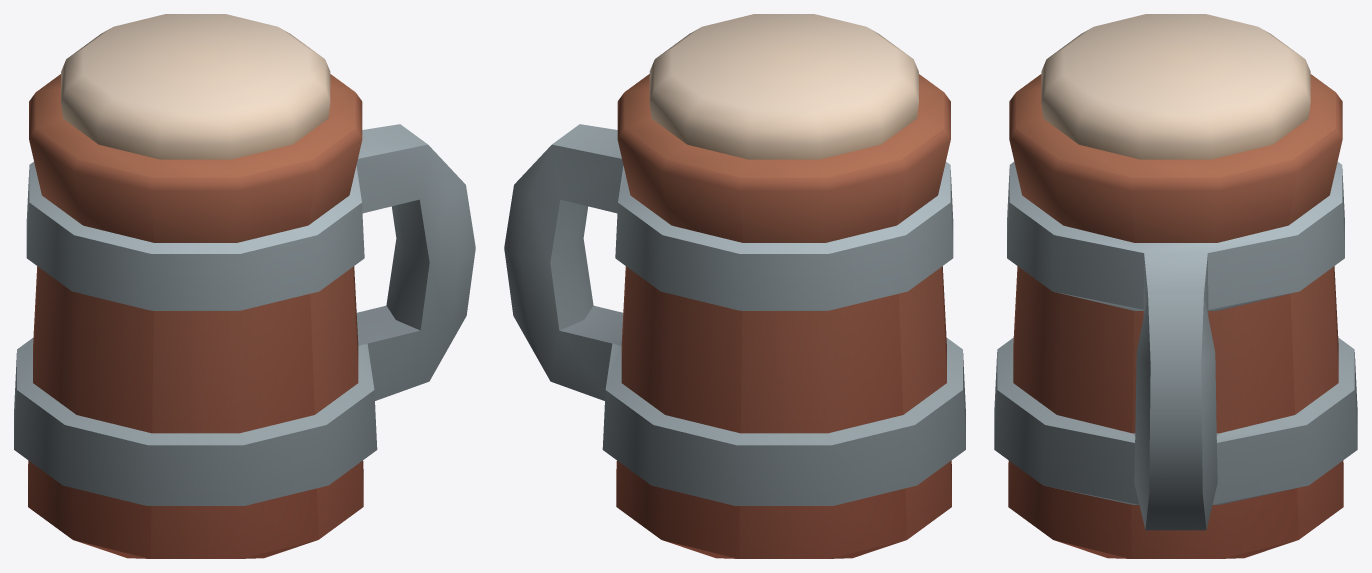
3 views of the same model, side by side, from view 1: azimuth 30°, elevation 25°; view 2: azimuth 150°, elevation 25°; view 3: azimuth 270°, elevation 25° (orthographic).
Visible parts, largest first — view 1: mug_full; view 2: mug_full; view 3: mug_full.
Boxes of the visible parts, x1,y1,x2,y2 form: mug_full: (14,14,475,558); mug_full: (504,14,965,558); mug_full: (994,14,1357,558).
Bounding box in the file's own units: 0.5342 × 0.5484 × 0.396.
1 material, 1 textured.
